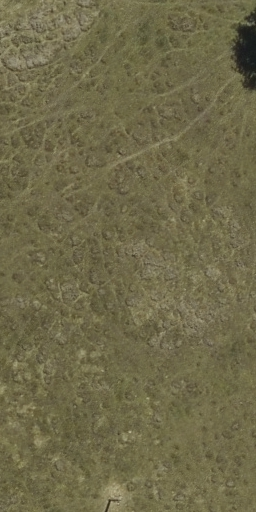DT: (104, 494, 121, 509)
